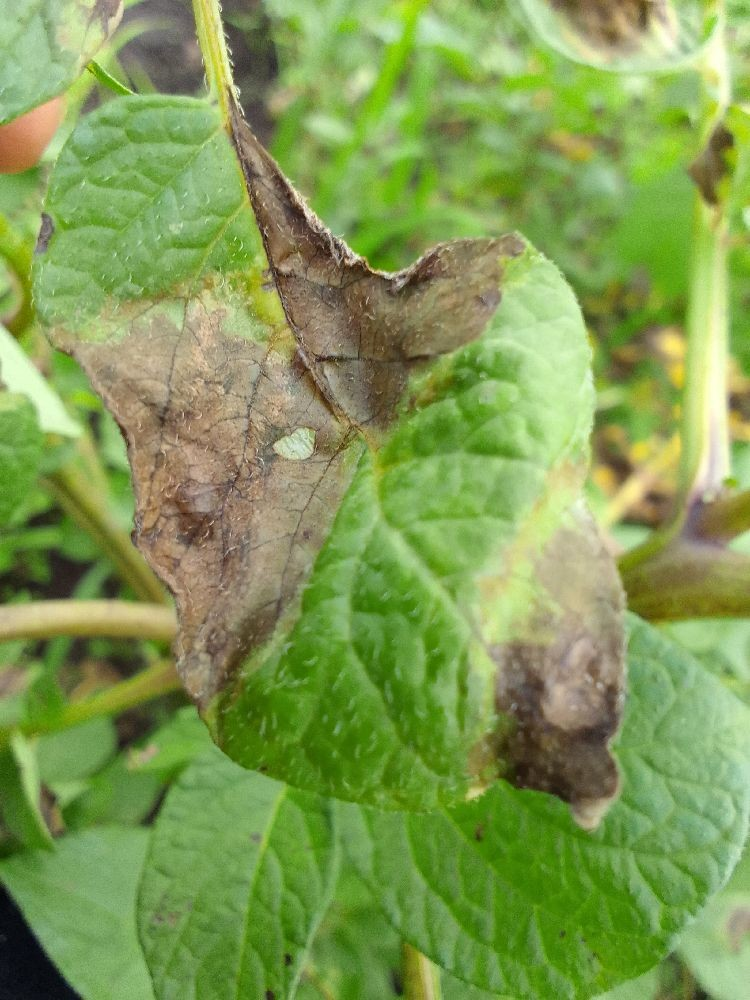late_blight: (0, 0, 541, 760), (422, 362, 750, 876), (567, 270, 695, 398), (535, 0, 680, 74)
